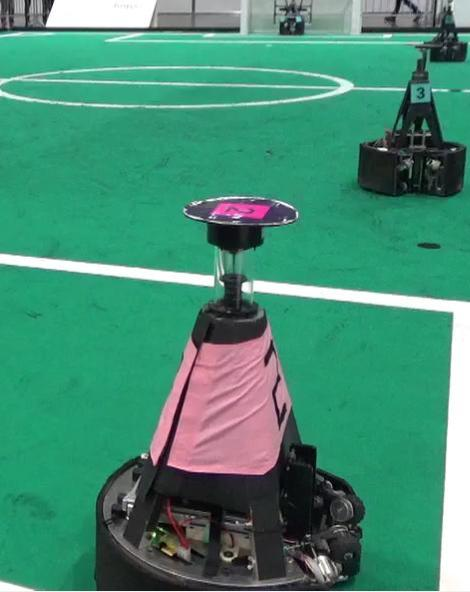robot: (82, 193, 365, 591), (352, 36, 467, 201)
